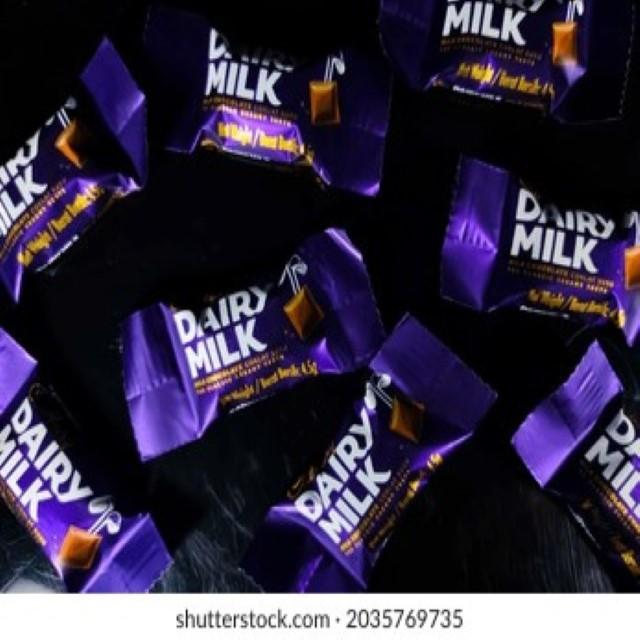cadbury_chocolate: (117, 230, 407, 462), (273, 318, 497, 583), (0, 30, 153, 310), (450, 130, 640, 350), (0, 353, 167, 597), (168, 30, 380, 197), (520, 357, 640, 590), (382, 0, 598, 118)
